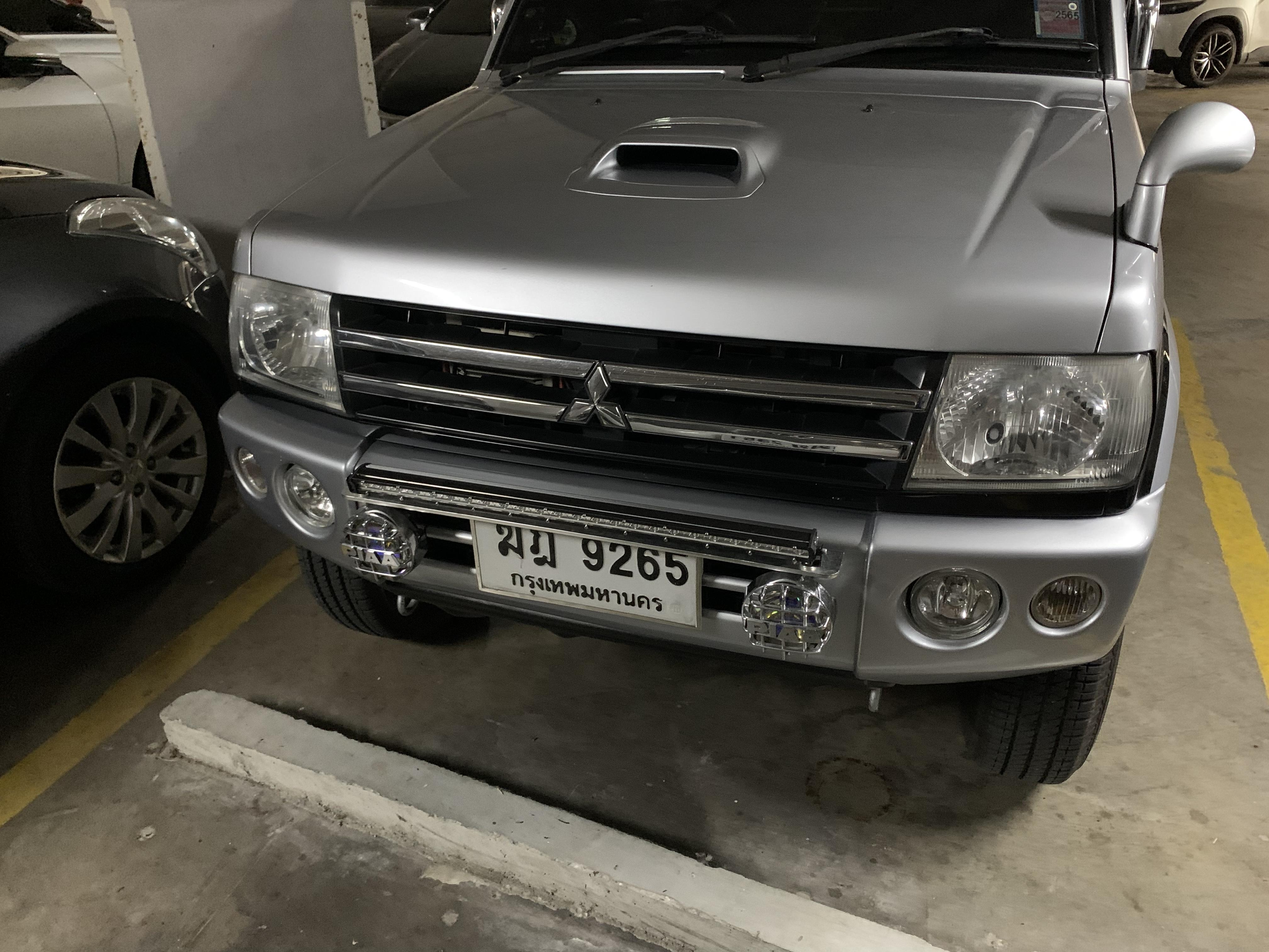license-plate: (471, 513, 706, 638)
